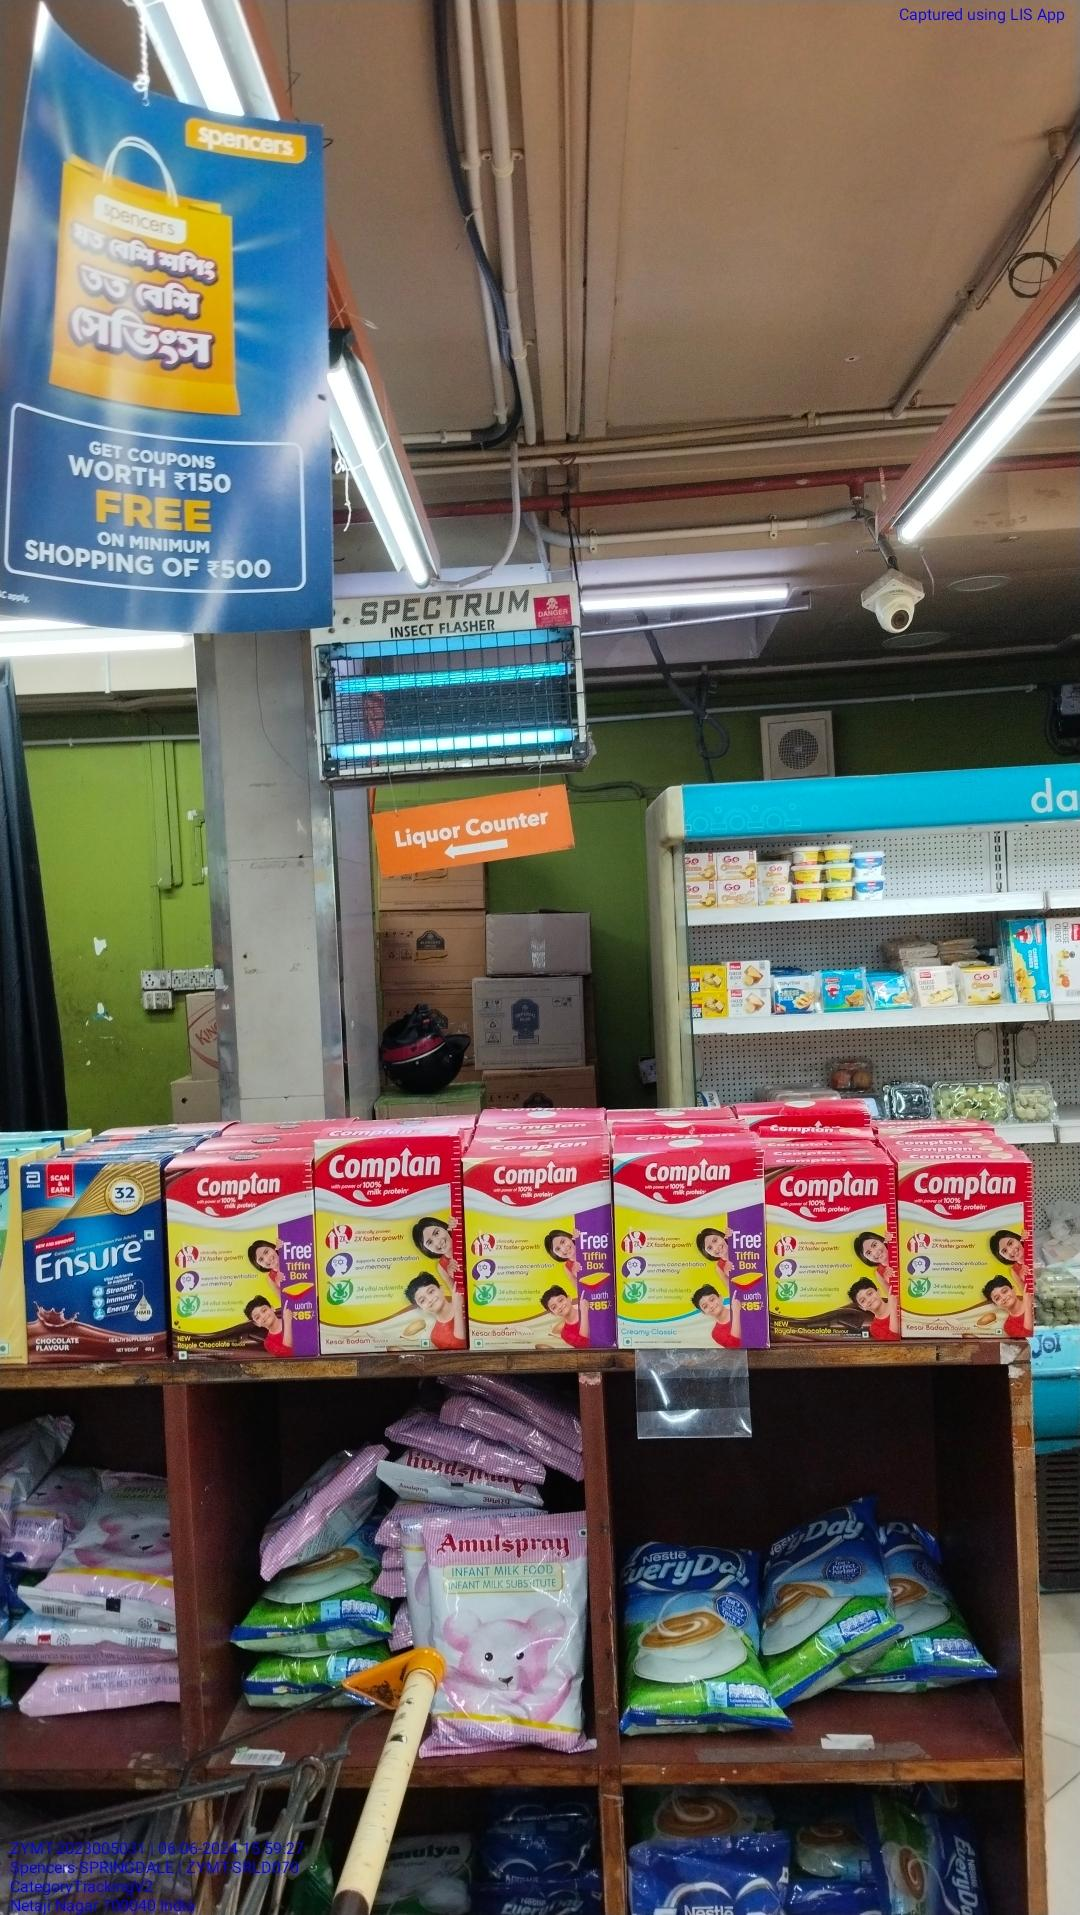COMPLAN_CREAMY_CLASSIC_500_G_PACK: (613, 1151, 766, 1347)
